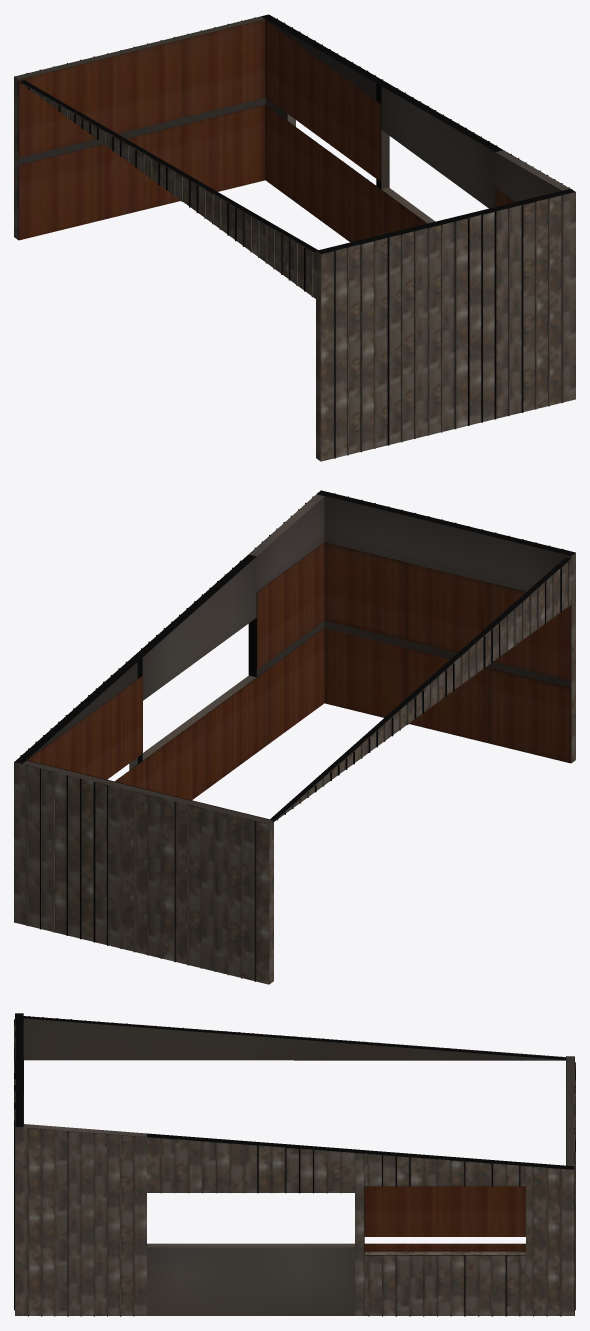
The model's file is arrival_shell.glb.
The picture shows the model from 3 angles, top to bottom: view 1: azimuth 30°, elevation 25°; view 2: azimuth 150°, elevation 25°; view 3: azimuth 270°, elevation 25°; orthographic projection. The views are drawn at different scales.
Parts seen in each view (by area): view 1: arrival_shell; view 2: arrival_shell; view 3: arrival_shell.
Part boxes in pixels (x1=…): arrival_shell: x1=14, y1=14, x2=575, y2=461; arrival_shell: x1=14, y1=490, x2=575, y2=984; arrival_shell: x1=14, y1=1013, x2=575, y2=1316.
Size of the model in its own units: 11.71 by 9.03 by 24.31.
1 material, 1 textured.
